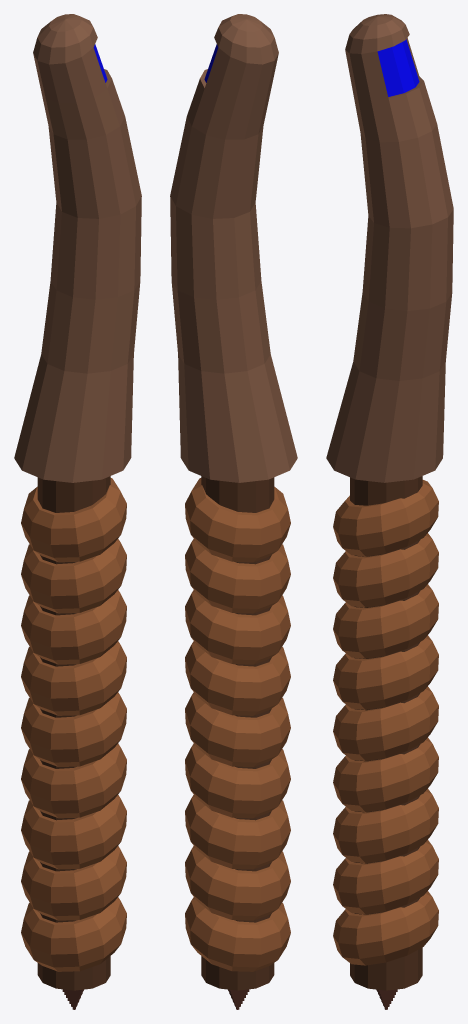
The model's file is Wand 444.glb.
3 views of the same model, side by side, from view 1: azimuth 30°, elevation 25°; view 2: azimuth 150°, elevation 25°; view 3: azimuth 330°, elevation 25° (orthographic).
Visible parts, largest first — view 1: GeneratedWand; view 2: GeneratedWand; view 3: GeneratedWand.
Boxes of the visible parts, left/top/right/bottom form: GeneratedWand: left=14, top=14, right=141, bottom=1009; GeneratedWand: left=170, top=14, right=297, bottom=1009; GeneratedWand: left=326, top=14, right=453, bottom=1009.
Bounding box in the file's own units: 0.0644 × 0.5346 × 0.0581.
